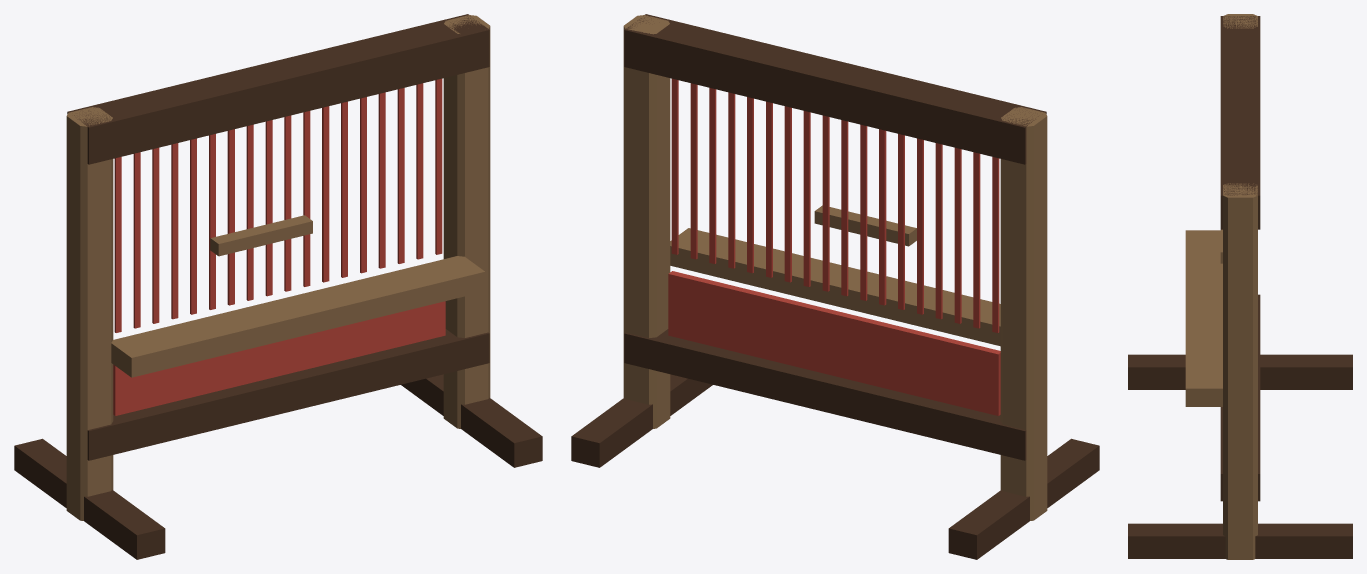
The model's file is loom_lod0.glb.
3 views of the same model, side by side, from view 1: azimuth 30°, elevation 25°; view 2: azimuth 150°, elevation 25°; view 3: azimuth 270°, elevation 25° (orthographic). The views are drawn at different scales.
Parts seen in each view (by area): view 1: loom; view 2: loom; view 3: loom.
Part boxes in pixels (x1,y1,x2,y2): loom: [14, 14, 542, 559]; loom: [571, 14, 1099, 559]; loom: [1128, 14, 1352, 559].
Size of the model in its own units: 1.74 by 1.6 by 0.9.
